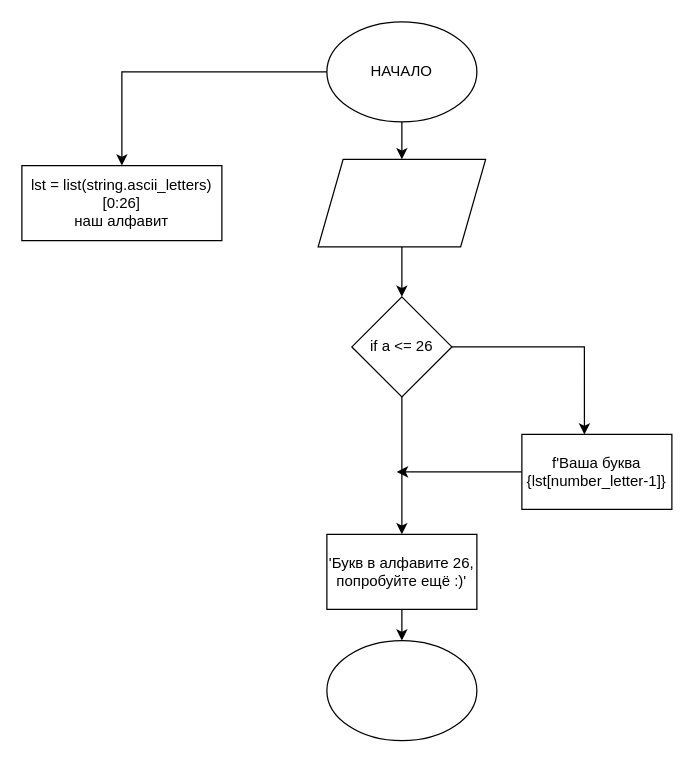
Image size: 694x763. Some labels were removed from this diagram. The shapes that lost their labels are listed below. From the top down, each one's centre as x and y in pixels, then its label:
At (x=401, y=202): "a = input().lower()".
At (x=401, y=690): "Конец".
